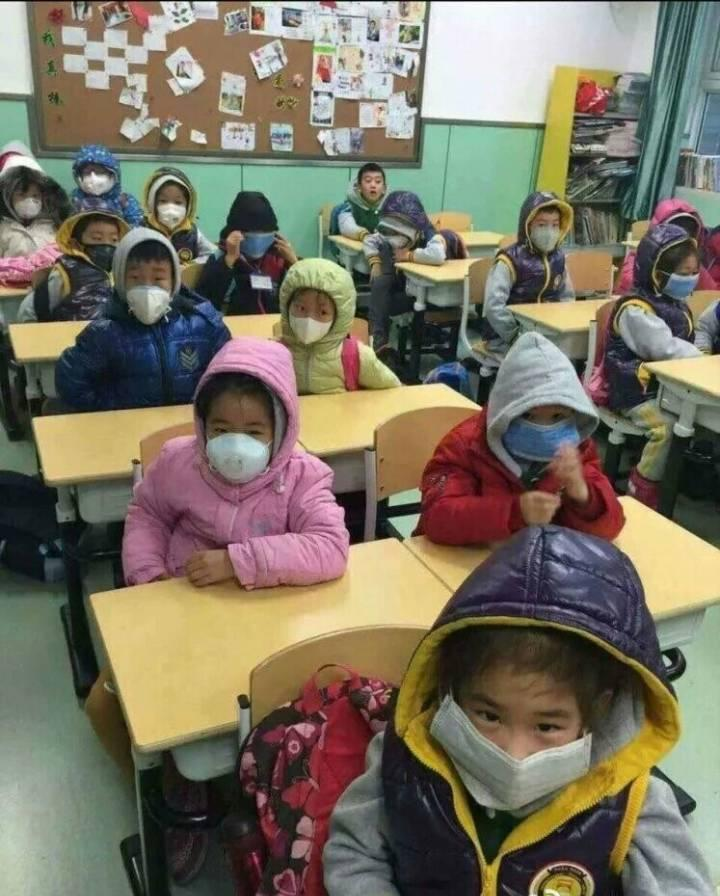NONE: (362, 174, 387, 199)
OK: (202, 410, 280, 488), (508, 404, 577, 473), (123, 268, 178, 323), (289, 298, 338, 347), (78, 226, 121, 269), (148, 193, 189, 234), (527, 215, 567, 255), (232, 221, 272, 261), (662, 264, 702, 304), (8, 183, 47, 222), (78, 165, 115, 199), (381, 224, 411, 251)
WRONG: (458, 679, 595, 816)
